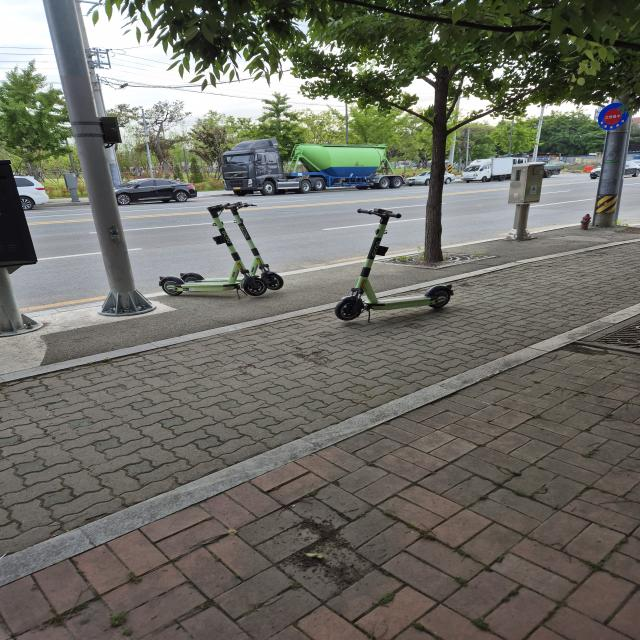bic: (2, 245, 638, 552)
curb: (0, 304, 640, 585), (0, 304, 335, 382), (378, 239, 638, 298)
kick-board: (335, 209, 453, 320), (158, 201, 283, 296)
road: (118, 185, 428, 292), (13, 205, 107, 308), (443, 181, 513, 245), (530, 174, 597, 228)
sidewalk: (2, 350, 638, 640), (2, 262, 362, 371), (372, 228, 638, 292)
